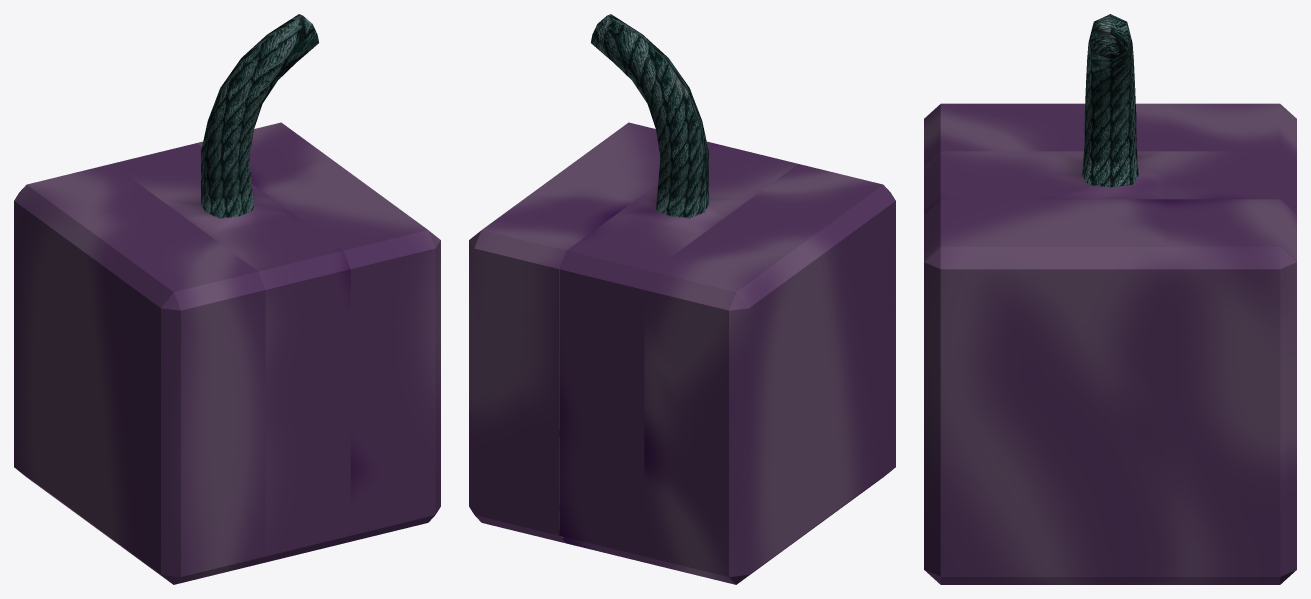
File: Bomb.fbx
3 views of the same model, side by side, from view 1: azimuth 30°, elevation 25°; view 2: azimuth 150°, elevation 25°; view 3: azimuth 270°, elevation 25° (orthographic). The views are drawn at different scales.
Visible parts, largest first — view 1: Bomb; view 2: Bomb; view 3: Bomb.
Boxes of the visible parts, x1=… form: Bomb: x1=14, y1=14, x2=440, y2=584; Bomb: x1=469, y1=14, x2=895, y2=584; Bomb: x1=924, y1=14, x2=1296, y2=584.
Size of the model in its own units: 200 by 318 by 200.
Materials: 1 (1 with a texture image).
